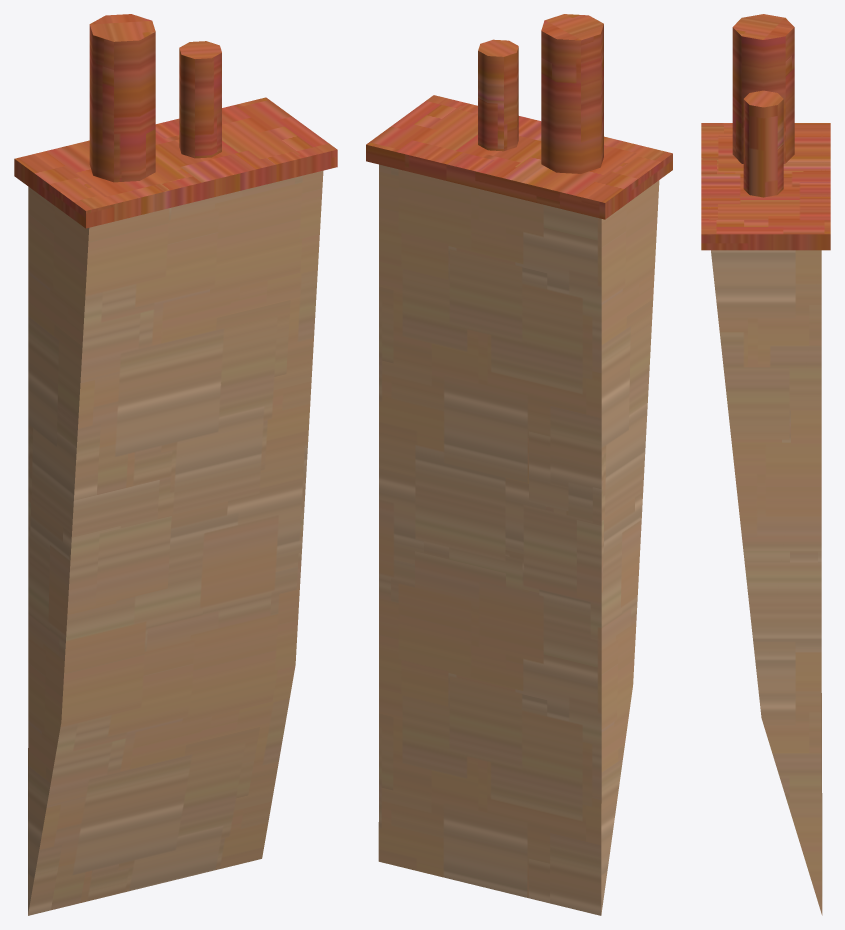
The model's file is Chimney_01.fbx.
3 views of the same model, side by side, from view 1: azimuth 30°, elevation 25°; view 2: azimuth 150°, elevation 25°; view 3: azimuth 270°, elevation 25° (orthographic). The views are drawn at different scales.
Visible parts, largest first — view 1: Chimney_01; view 2: Chimney_01; view 3: Chimney_01.
Part boxes in pixels (x1,y1,x2,y2): Chimney_01: [14, 14, 337, 915]; Chimney_01: [366, 14, 672, 915]; Chimney_01: [701, 14, 830, 915].
Size of the model in its own units: 190 by 645 by 93.14.
Materials: 2 (2 with a texture image).
